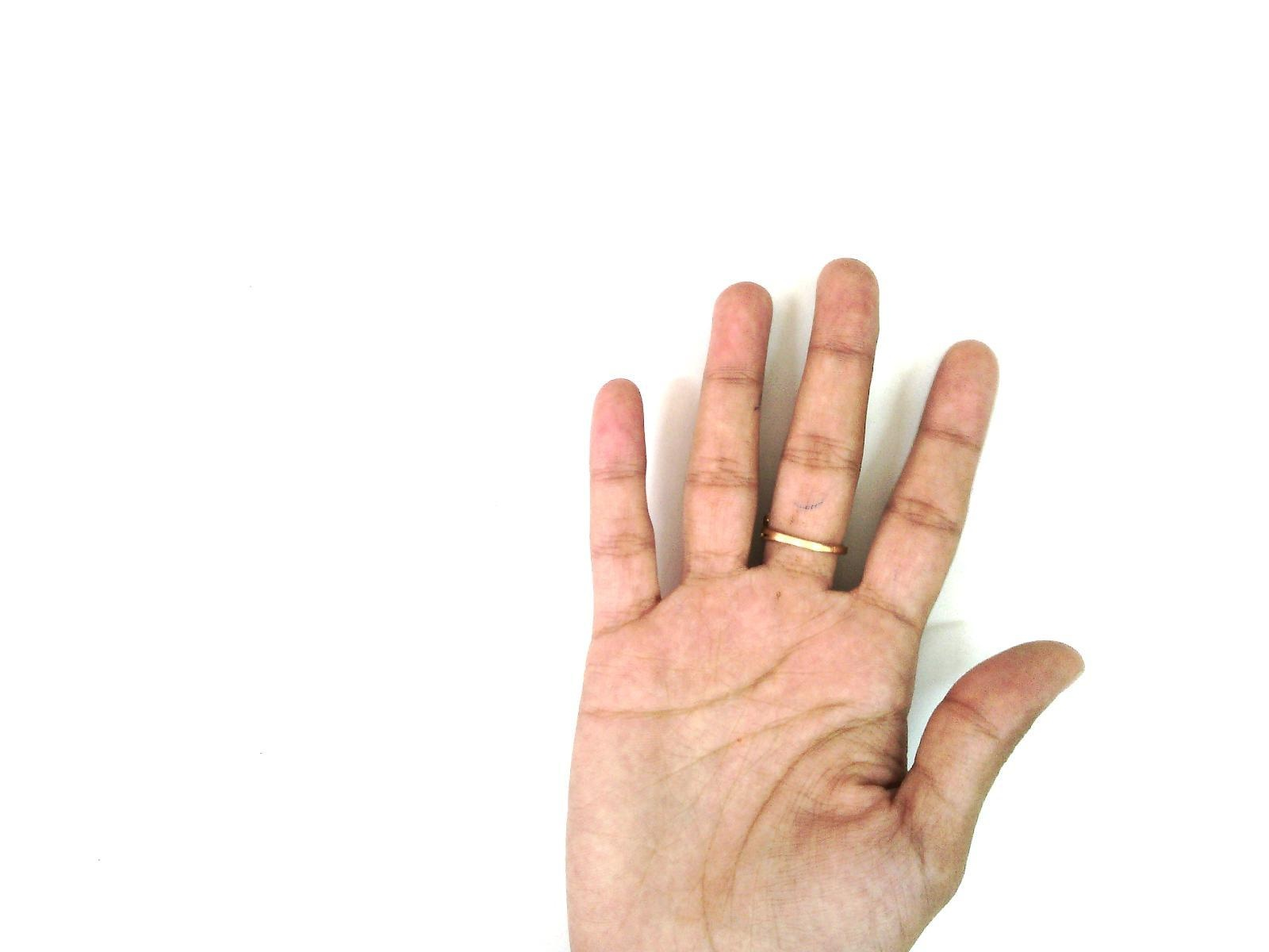open_palm: (562, 256, 1087, 951)
